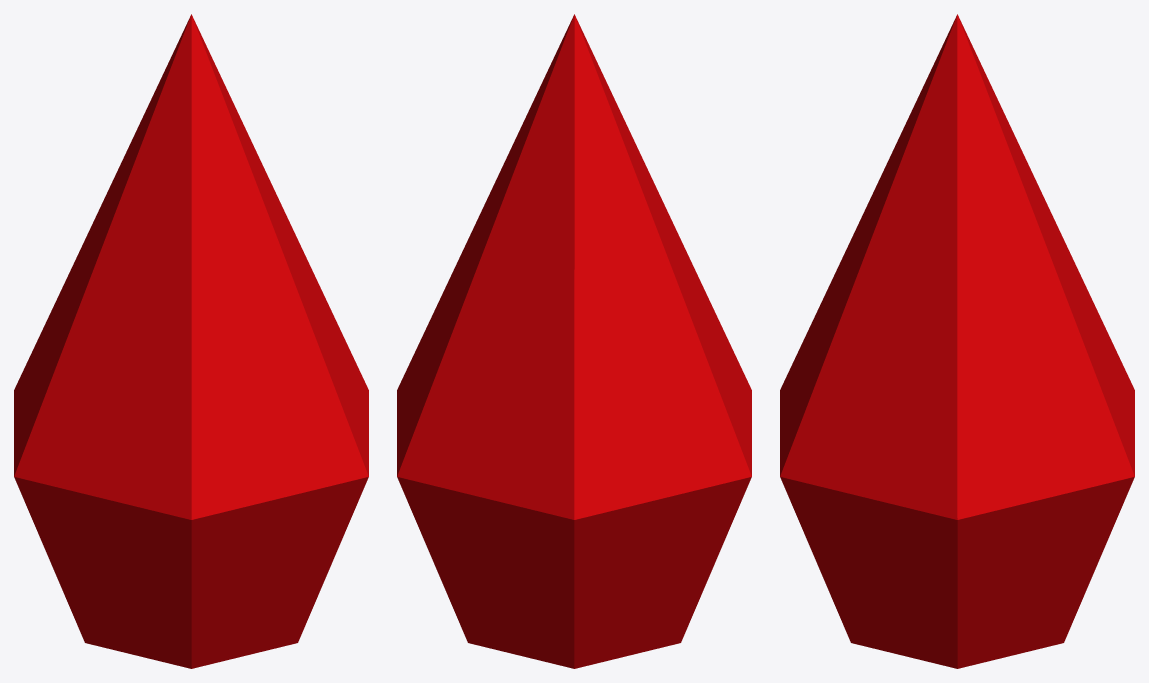
The model's file is crystal02.fbx.
3 renders of one model, left to right at view 1: azimuth 30°, elevation 25°; view 2: azimuth 150°, elevation 25°; view 3: azimuth 270°, elevation 25°, orthographic.
Visible parts, largest first — view 1: crystal02; view 2: crystal02; view 3: crystal02.
Part boxes in pixels (x1,y1,x2,y2): crystal02: (14, 14, 368, 668); crystal02: (397, 14, 751, 668); crystal02: (780, 14, 1134, 668).
Bounding box in the file's own units: 142 × 230 × 123.
